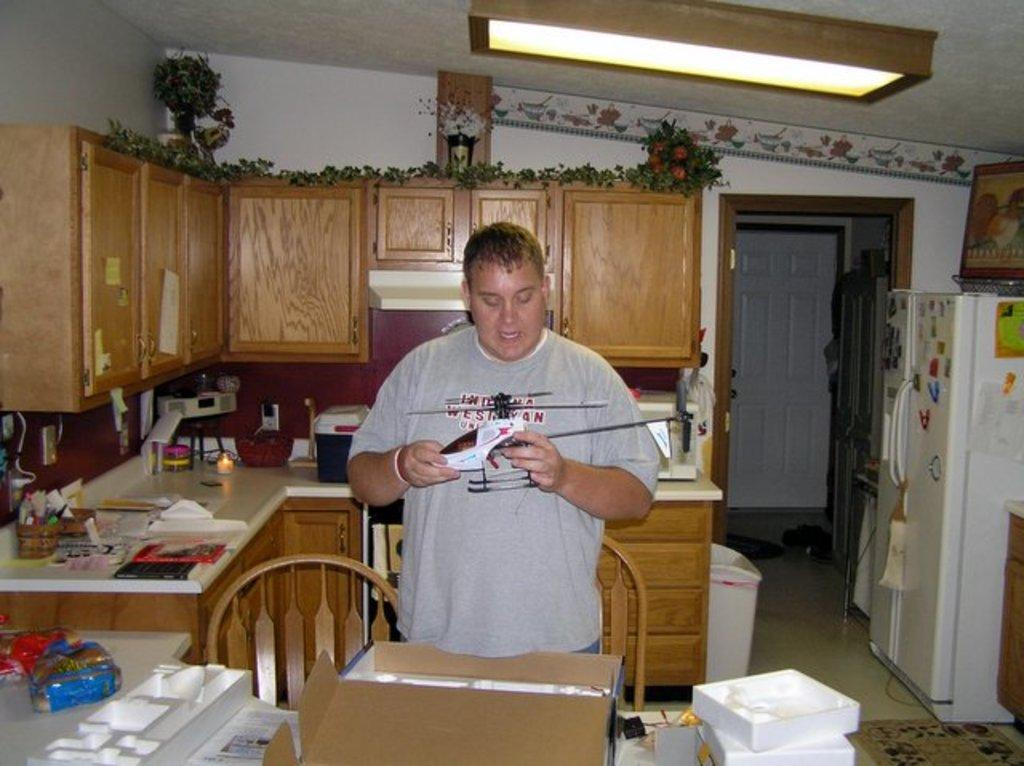cabinet_door: (570, 194, 690, 358), (232, 195, 358, 347), (84, 150, 134, 376), (146, 174, 190, 356), (384, 190, 454, 259), (190, 186, 218, 342)
handle: (898, 380, 914, 485), (888, 381, 900, 484), (132, 332, 146, 364), (335, 520, 349, 552), (144, 328, 155, 361), (442, 226, 452, 253)
